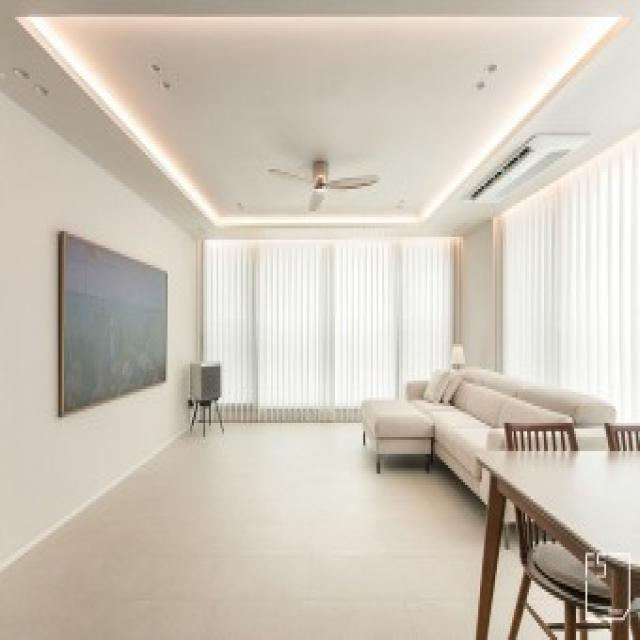Sofa: (360, 359, 620, 512)
Table: (469, 438, 640, 628)
tv: (60, 228, 168, 414)
window: (202, 248, 437, 412)
